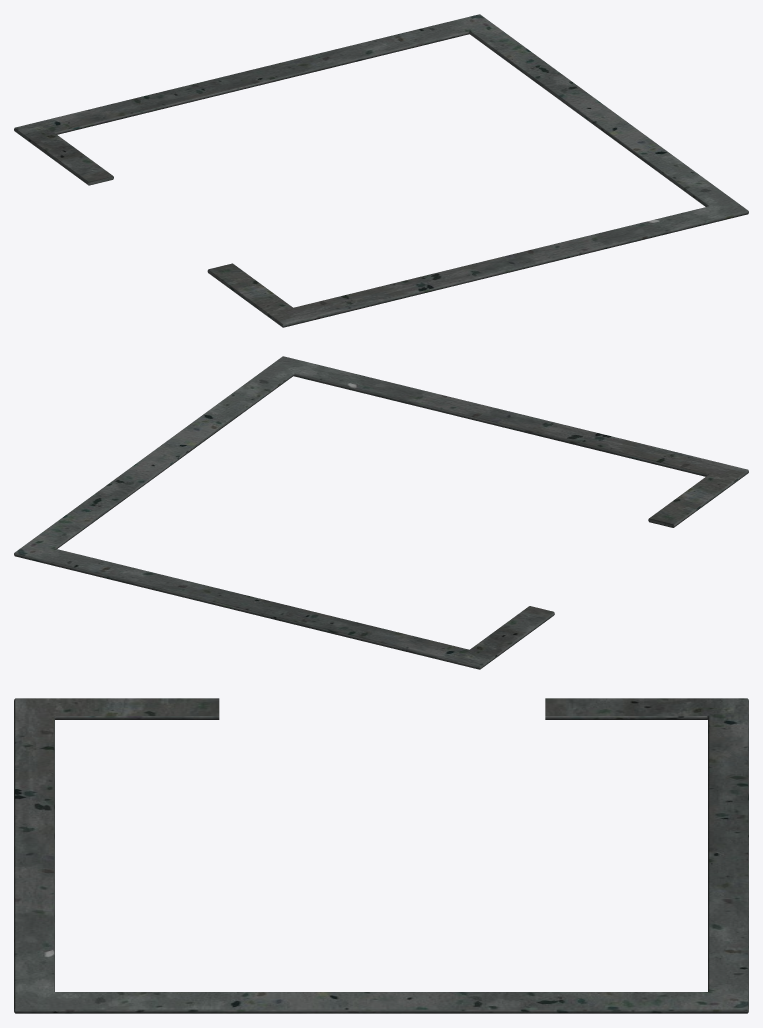
Rendered from frame-2.glb.
3 renders of one model, top to bottom at view 1: azimuth 30°, elevation 25°; view 2: azimuth 150°, elevation 25°; view 3: azimuth 270°, elevation 25°, orthographic. The views are drawn at different scales.
Visible parts, largest first — view 1: Plane; view 2: Plane; view 3: Plane.
Boxes of the visible parts, bbox=[...] form: Plane: bbox=[14, 14, 748, 327]; Plane: bbox=[14, 356, 748, 669]; Plane: bbox=[14, 698, 748, 1013].
Size of the model in its own units: 8.99 by 0.07 by 8.98.
1 material, 1 textured.
